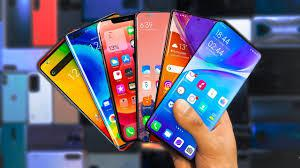Smartphone: (154, 41, 261, 144), (81, 23, 145, 166), (43, 36, 114, 153), (153, 15, 221, 132), (130, 7, 165, 147)
